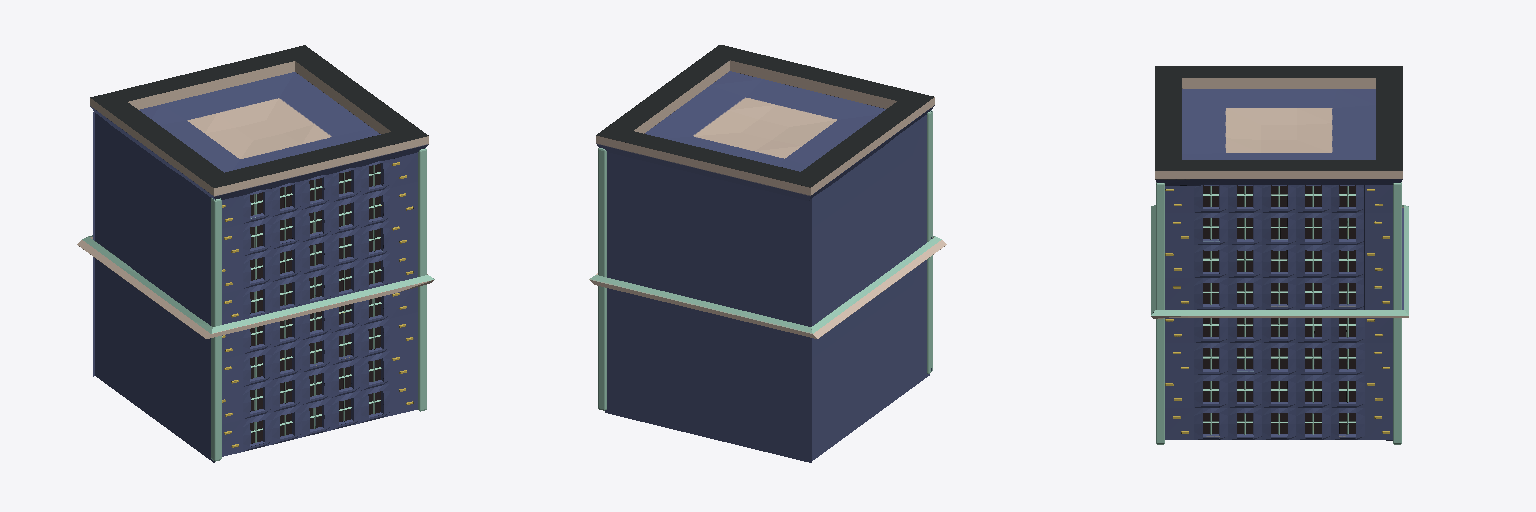
3 renders of one model, left to right at view 1: azimuth 30°, elevation 25°; view 2: azimuth 150°, elevation 25°; view 3: azimuth 270°, elevation 25°, orthographic.
Visible parts, largest first — view 1: Building-2_joined_Plane.014; view 2: Building-2_joined_Plane.014; view 3: Building-2_joined_Plane.014.
Part boxes in pixels (x1,y1,x2,y2): Building-2_joined_Plane.014: (77, 45, 434, 462); Building-2_joined_Plane.014: (589, 45, 946, 462); Building-2_joined_Plane.014: (1151, 66, 1408, 444).
Size of the model in its own units: 7.37 by 8.55 by 7.21.
Materials: 7 (1 with a texture image).